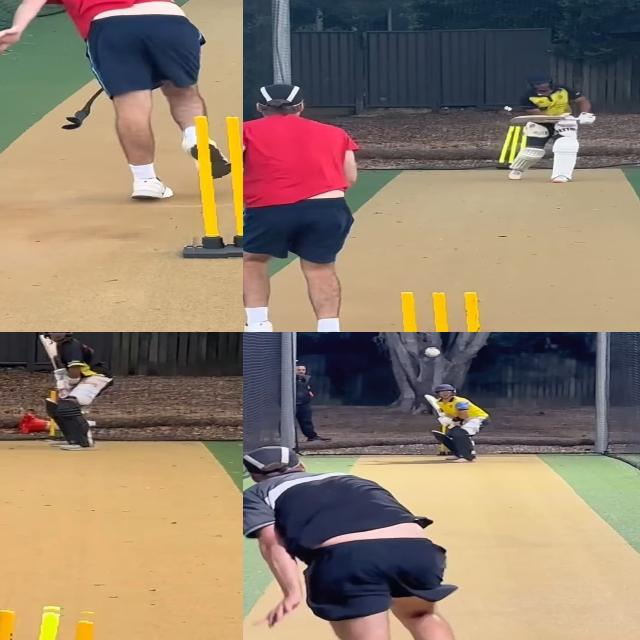Cricket ball: (424, 347, 441, 357), (502, 105, 514, 111)
Stumps: (183, 115, 243, 258), (385, 291, 495, 332), (492, 123, 524, 170)
